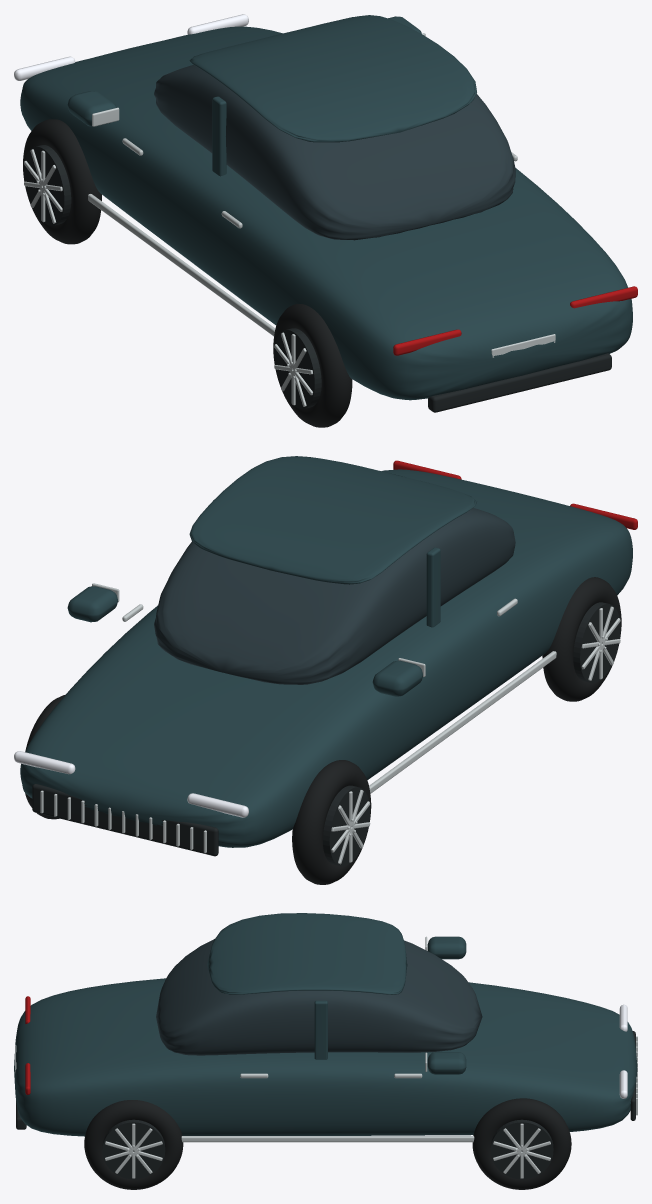
Rendered from executive-sedan.glb.
3 renders of one model, top to bottom at view 1: azimuth 30°, elevation 25°; view 2: azimuth 150°, elevation 25°; view 3: azimuth 270°, elevation 25°, orthographic. The views are drawn at different scales.
Visible parts, largest first — view 1: Sculpted aluminium body, Glazed cabin, Floating roof, Tire, Tire.001, Rear diffuser, Alloy wheel, Alloy wheel.001, Sill brightwork, B pillar, Wing mirror, Red tail light (+3 smaller); view 2: Sculpted aluminium body, Glazed cabin, Floating roof, Tire.001, Tire, Front lower intake, Alloy wheel.001, Alloy wheel, Sill brightwork, Wing mirror.001, Wing mirror, B pillar (+2 smaller); view 3: Sculpted aluminium body, Glazed cabin, Floating roof, Tire.003, Tire.002, Alloy wheel.003, Alloy wheel.002, Sill brightwork.001, Wing mirror.001, B pillar.001, Wing mirror.
Boxes of the visible parts, left/top/right/bottom form: Sculpted aluminium body: left=20, top=26, right=632, bottom=400; Glazed cabin: left=154, top=65, right=515, bottom=240; Floating roof: left=189, top=15, right=476, bottom=142; Tire: left=273, top=304, right=352, bottom=427; Tire.001: left=23, top=119, right=101, bottom=244; Rear diffuser: left=428, top=353, right=611, bottom=412; Alloy wheel: left=274, top=328, right=321, bottom=409; Alloy wheel.001: left=24, top=145, right=71, bottom=225; Sill brightwork: left=88, top=194, right=275, bottom=336; B pillar: left=212, top=96, right=226, bottom=176; Wing mirror: left=67, top=91, right=116, bottom=126; Red tail light: left=393, top=329, right=461, bottom=355; Sculpted aluminium body: left=20, top=469, right=632, bottom=847; Glazed cabin: left=154, top=508, right=515, bottom=684; Floating roof: left=189, top=456, right=476, bottom=584; Tire.001: left=292, top=760, right=371, bottom=884; Tire: left=542, top=577, right=621, bottom=701; Front lower intake: left=32, top=784, right=218, bottom=856; Alloy wheel.001: left=323, top=785, right=370, bottom=866; Alloy wheel: left=573, top=602, right=620, bottom=683; Sill brightwork: left=369, top=651, right=556, bottom=793; Wing mirror.001: left=67, top=586, right=117, bottom=622; Wing mirror: left=372, top=660, right=422, bottom=696; B pillar: left=426, top=547, right=440, bottom=627; Sculpted aluminium body: left=14, top=978, right=637, bottom=1136; Glazed cabin: left=156, top=939, right=482, bottom=1055; Floating roof: left=207, top=913, right=407, bottom=994; Tire.003: left=472, top=1098, right=571, bottom=1189; Tire.002: left=84, top=1100, right=183, bottom=1189; Alloy wheel.003: left=490, top=1119, right=553, bottom=1179; Alloy wheel.002: left=102, top=1119, right=165, bottom=1179; Sill brightwork.001: left=181, top=1136, right=474, bottom=1142; Wing mirror.001: left=427, top=1052, right=466, bottom=1074; B pillar.001: left=314, top=1000, right=327, bottom=1059; Wing mirror: left=427, top=936, right=466, bottom=959.
Size of what is drawn, in the model's own units: 2.26 by 1.55 by 4.66.
